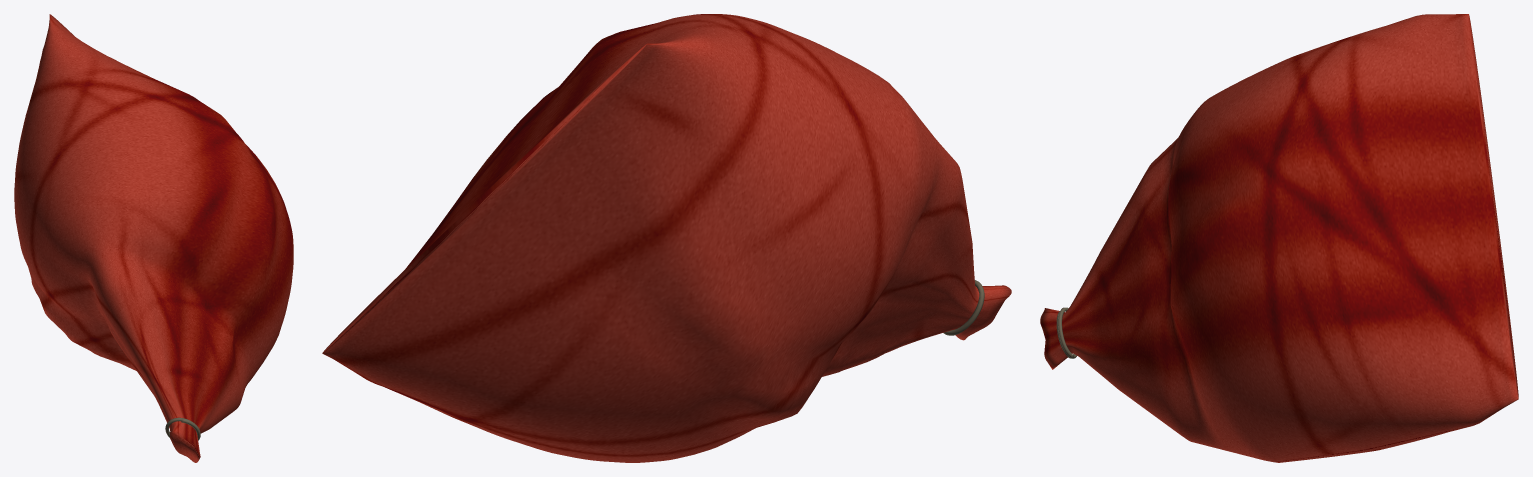
The model's file is peach_00_005.glb.
The picture shows the model from 3 angles, left to right: view 1: azimuth 30°, elevation 25°; view 2: azimuth 150°, elevation 25°; view 3: azimuth 270°, elevation 25°; orthographic projection. The views are drawn at different scales.
Parts seen in each view (by area): view 1: export_Tree00/shoot0_10_1/bag; view 2: export_Tree00/shoot0_10_1/bag; view 3: export_Tree00/shoot0_10_1/bag.
Part boxes in pixels (<box>): export_Tree00/shoot0_10_1/bag: <box>14,14,293,462</box>; export_Tree00/shoot0_10_1/bag: <box>322,14,1011,462</box>; export_Tree00/shoot0_10_1/bag: <box>1040,14,1518,462</box>.
Bounding box in the file's own units: 0.1098 × 0.1263 × 0.1388.
Materials: 4 (1 with a texture image).
